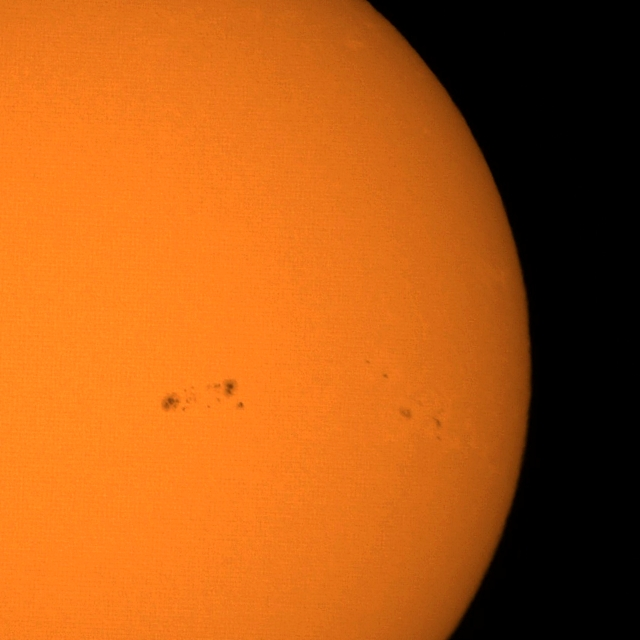sunspot: (202, 378, 242, 408), (160, 388, 198, 414), (399, 406, 414, 421), (236, 401, 244, 411), (382, 372, 389, 380)
